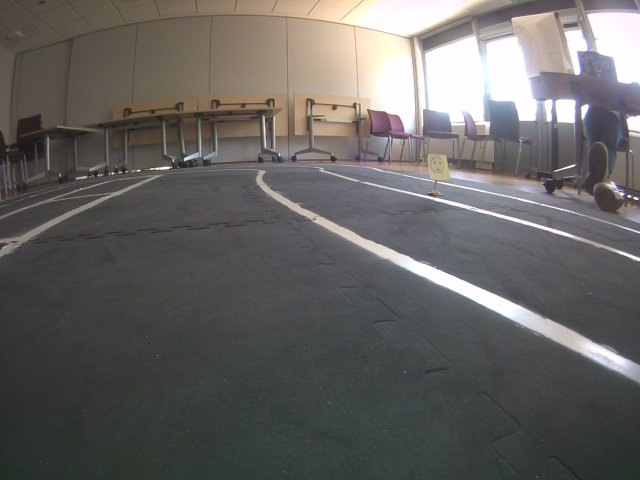Smiley: (427, 153, 452, 183)
